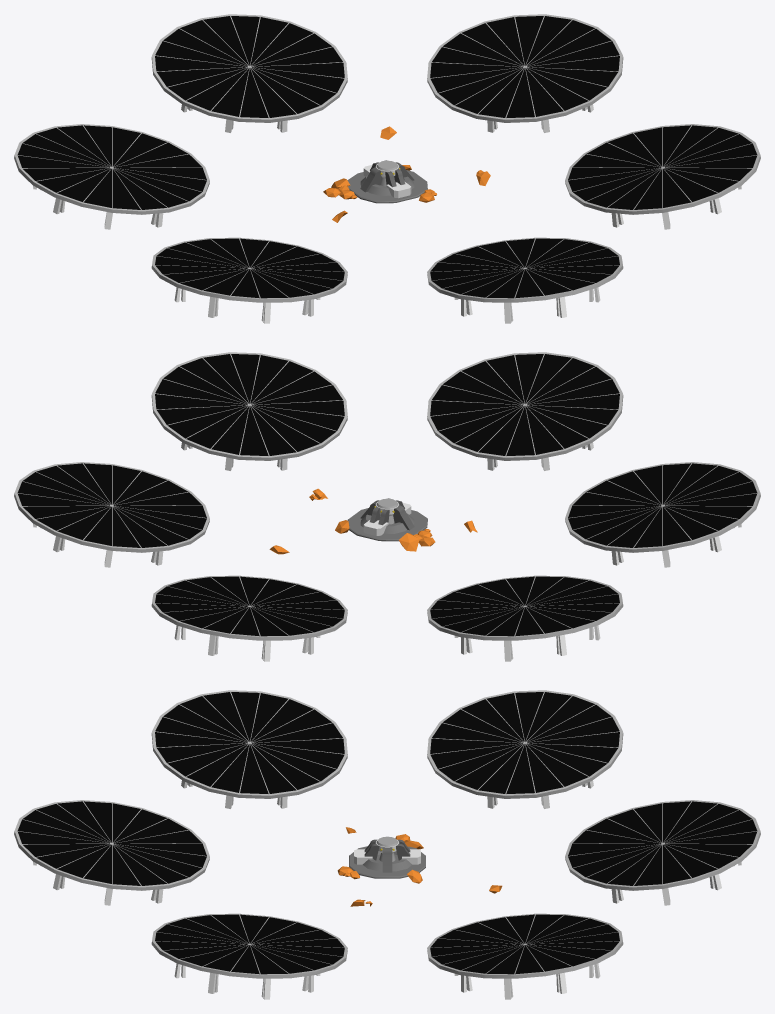
The model's file is NuclearReactor.glb.
3 renders of one model, top to bottom at view 1: azimuth 30°, elevation 25°; view 2: azimuth 150°, elevation 25°; view 3: azimuth 270°, elevation 25°, orthographic.
Parts seen in each view (by area): view 1: Circle.003, NuclearReactorBase, NuclearReactorProtections, NuclearReactorCore; view 2: Circle.003, NuclearReactorBase, NuclearReactorProtections, NuclearReactorCore; view 3: Circle.003, NuclearReactorBase, NuclearReactorCore, NuclearReactorProtections.
Part boxes in pixels (left/top/right/bottom): Circle.003: left=14, top=14, right=760, bottom=323; NuclearReactorBase: left=323, top=126, right=490, bottom=222; NuclearReactorProtections: left=360, top=160, right=414, bottom=192; NuclearReactorCore: left=363, top=160, right=411, bottom=198; Circle.003: left=14, top=352, right=760, bottom=661; NuclearReactorBase: left=269, top=488, right=477, bottom=554; NuclearReactorProtections: left=360, top=498, right=414, bottom=530; NuclearReactorCore: left=363, top=498, right=411, bottom=535; Circle.003: left=14, top=690, right=760, bottom=999; NuclearReactorBase: left=337, top=827, right=502, bottom=906; NuclearReactorCore: left=354, top=836, right=420, bottom=864; NuclearReactorProtections: left=364, top=839, right=410, bottom=872.
Size of the model in its own units: 6.81 by 0.5888 by 7.56.
Materials: 1 (1 with a texture image).
